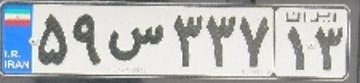character: (104, 16, 166, 69), (237, 12, 271, 72), (34, 10, 69, 67), (70, 10, 102, 68), (205, 13, 236, 71), (173, 12, 203, 71), (314, 24, 345, 71), (283, 24, 309, 73)
